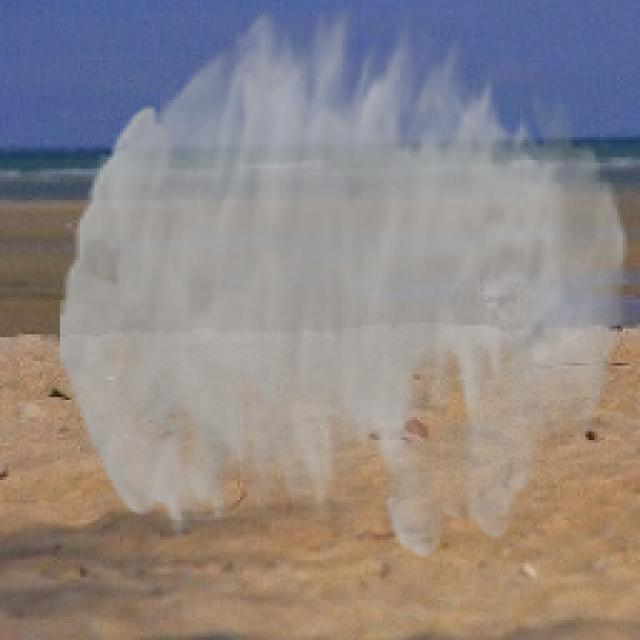smoke: (60, 6, 629, 557)
